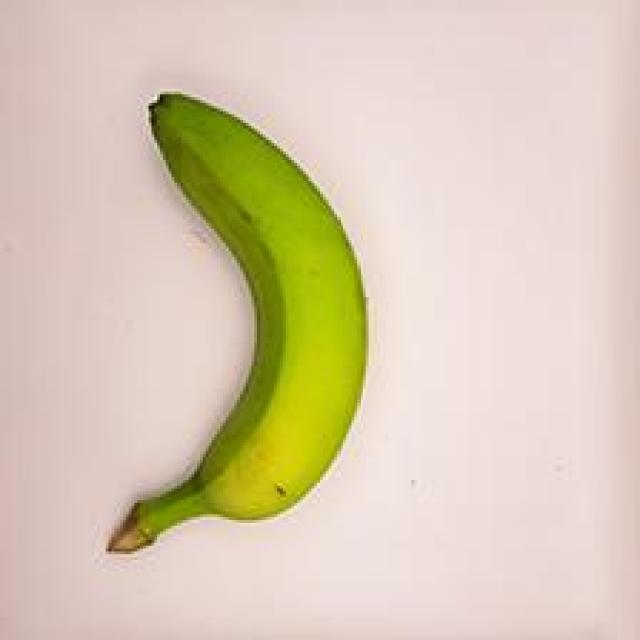unripe: (83, 82, 414, 597)
